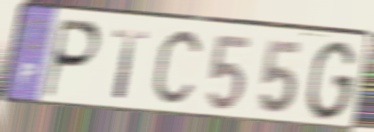5: (202, 33, 256, 114), (257, 37, 306, 116)
C: (148, 26, 206, 112)
G: (303, 39, 359, 124)
P: (41, 17, 103, 102)
T: (111, 27, 152, 102)
